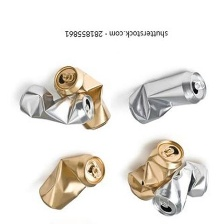can: (127, 67, 211, 125), (37, 151, 109, 212), (52, 64, 115, 133), (124, 136, 186, 203), (152, 159, 214, 216), (16, 83, 94, 124)
